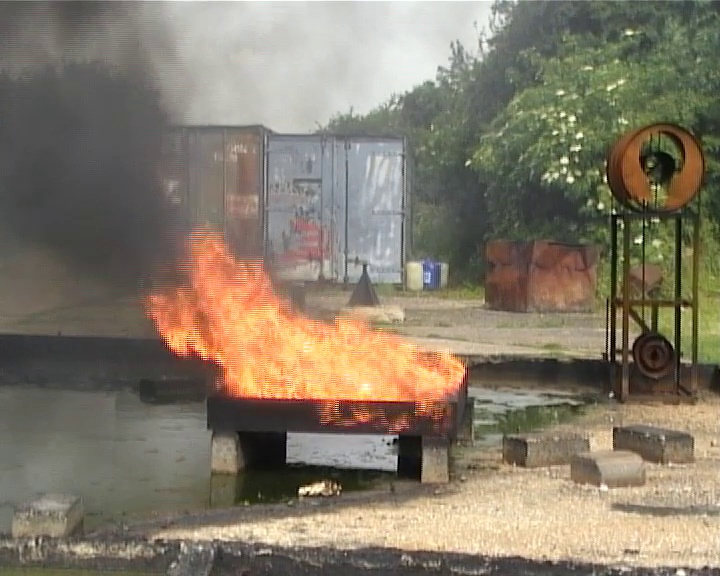fire: (153, 236, 464, 401)
